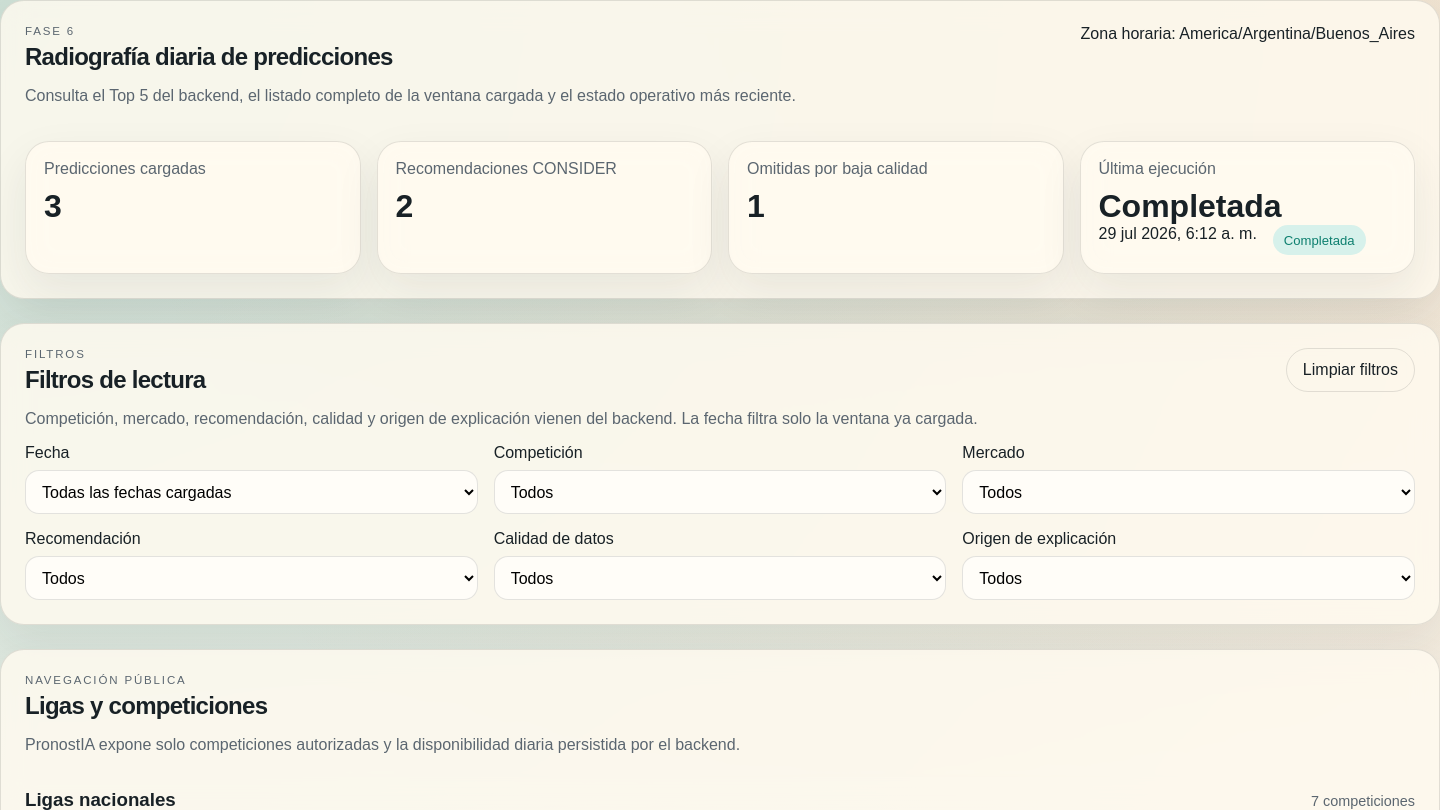
it: DashboardPage › re-queries backend filters and clears them from the UI
Expected: the heading "Radiografía diaria de predicciones" is shown, [25,43,393,70]
Select "Premier League" in the dropdown labelled "Competición" at (720, 492), box [494,470,946,514]
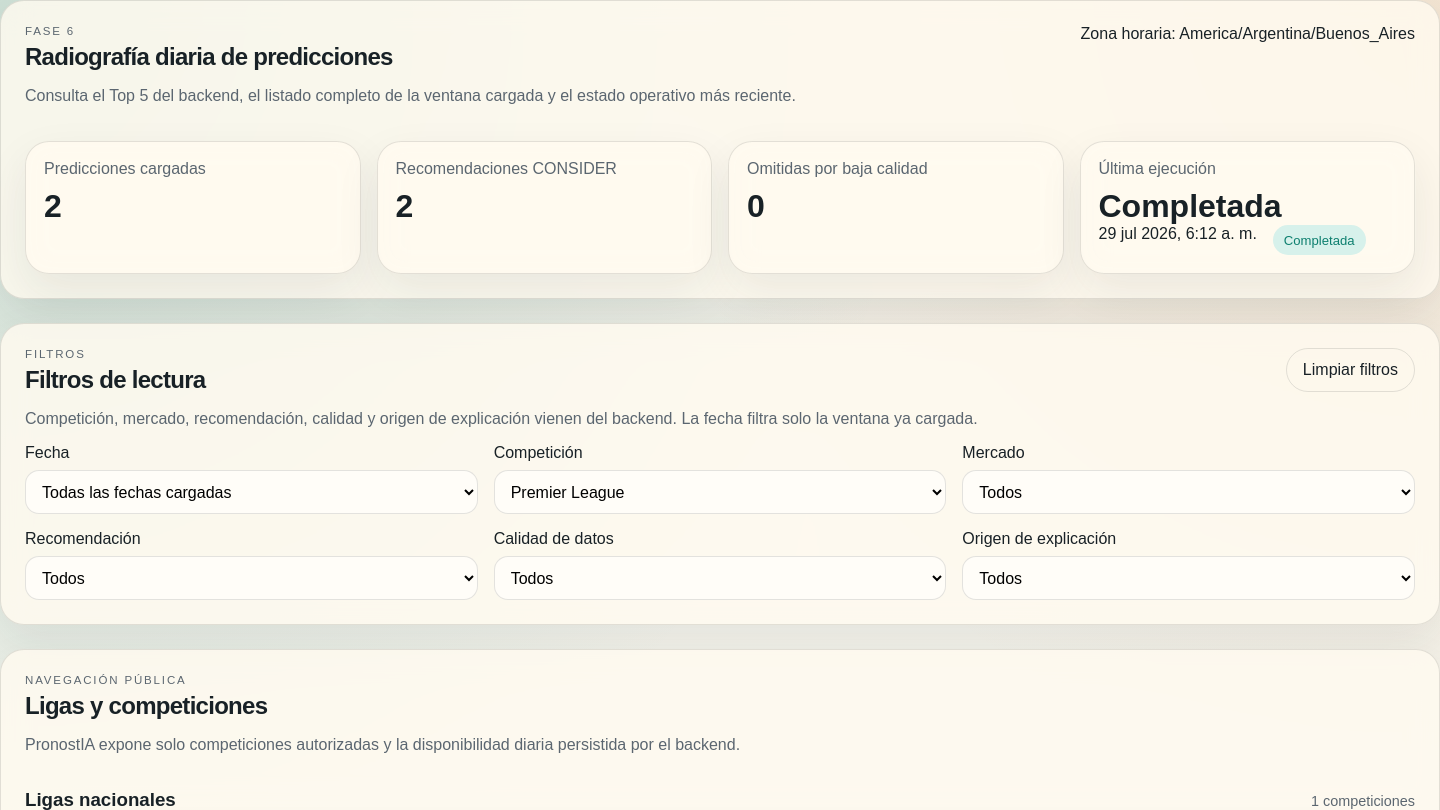
Click the button "Limpiar filtros" at (1350, 370), box [1286,348,1415,392]
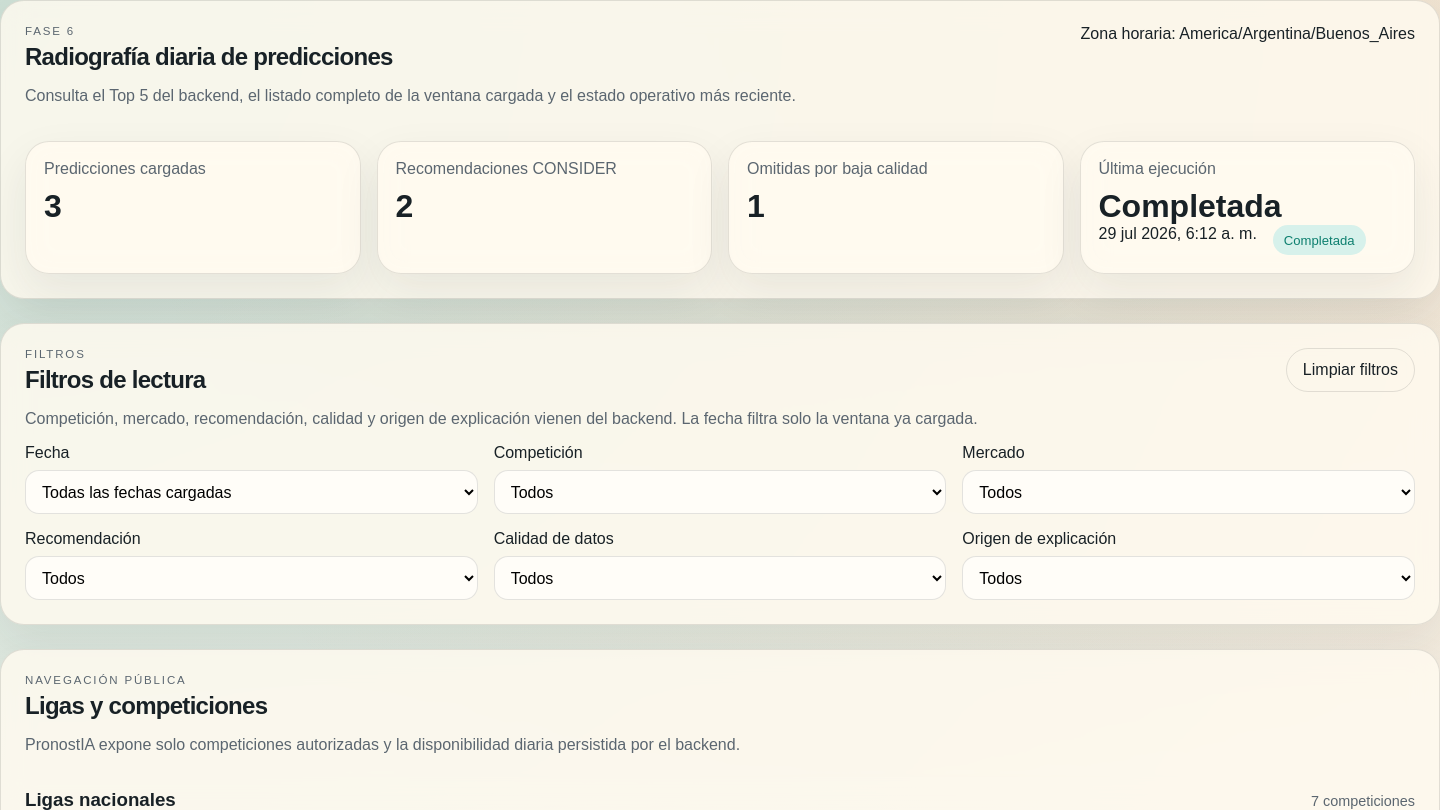
Expected: the dropdown labelled "Competición" shows "Todos", [494,470,946,514]
